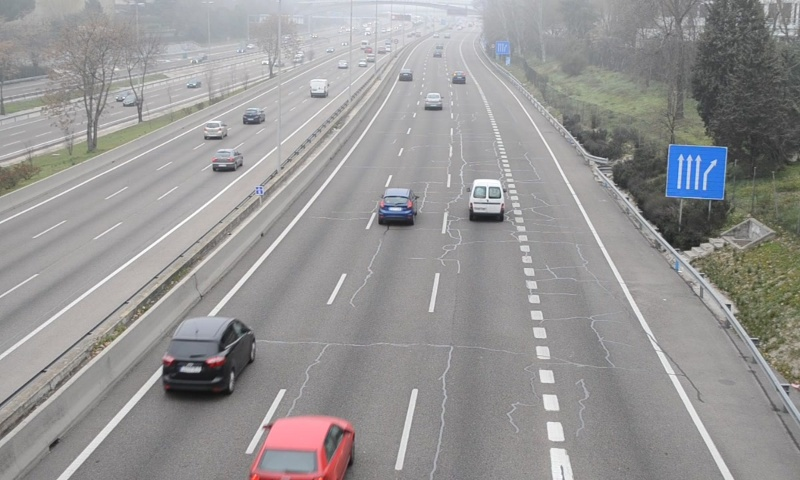car: (162, 317, 254, 394), (252, 416, 354, 480), (378, 188, 416, 223), (423, 92, 444, 109), (398, 67, 414, 82), (451, 70, 466, 85)
van: (469, 178, 506, 222)
